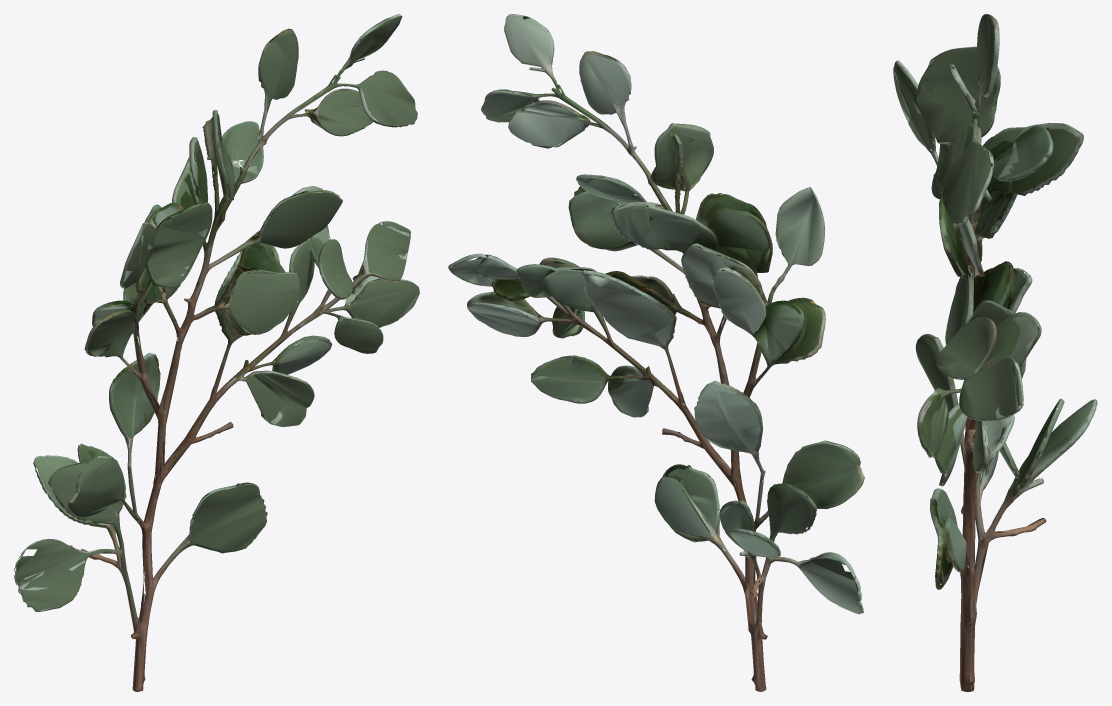
File: eucalipto.glb
3 views of the same model, side by side, from view 1: azimuth 30°, elevation 25°; view 2: azimuth 150°, elevation 25°; view 3: azimuth 270°, elevation 25° (orthographic). The views are drawn at different scales.
Visible parts, largest first — view 1: node_0; view 2: node_0; view 3: node_0.
Part boxes in pixels (<box>): node_0: <box>14,14,419,691</box>; node_0: <box>448,14,864,691</box>; node_0: <box>893,14,1097,691</box>.
Bounding box in the file's own units: 0.7188 × 1.04 × 0.2505.
Materials: 2 (1 with a texture image).
